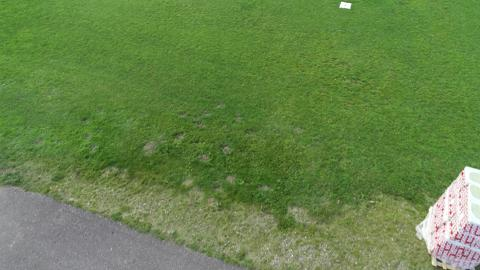RockwoolPallet: (423, 168, 479, 269)
